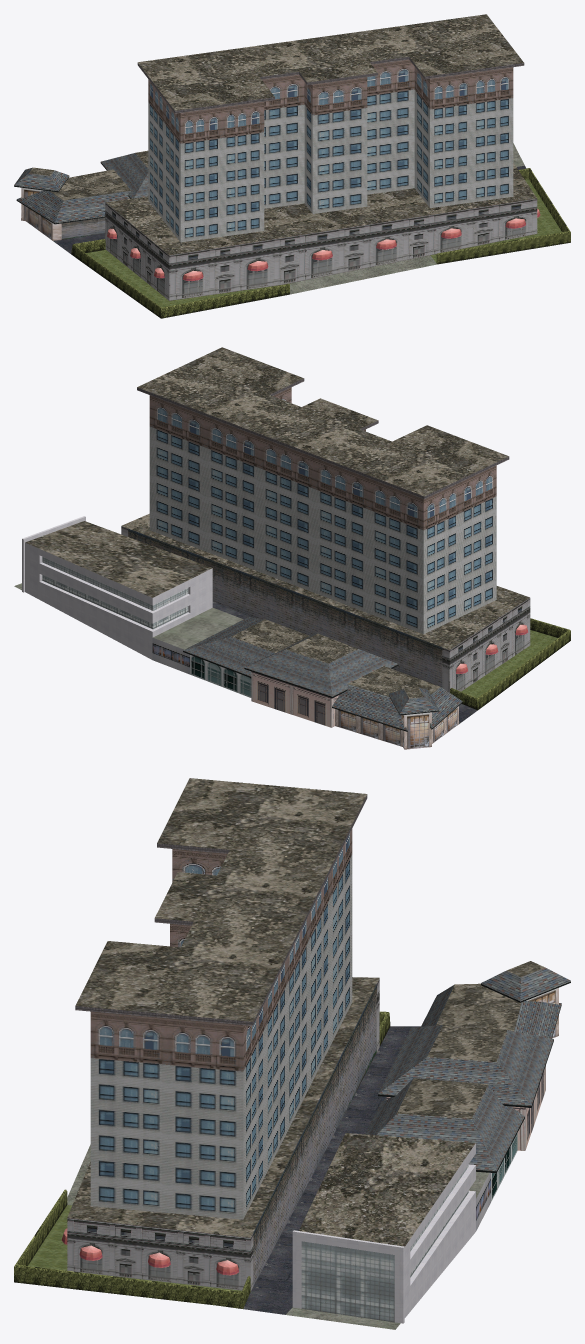
File: rodeo03_law2.obj
3 renders of one model, top to bottom at view 1: azimuth 30°, elevation 25°; view 2: azimuth 150°, elevation 25°; view 3: azimuth 270°, elevation 25°, orthographic. The views are drawn at different scales.
Parts seen in each view (by area): view 1: rodeo03_LAw2; view 2: rodeo03_LAw2; view 3: rodeo03_LAw2.
Boxes of the visible parts, box(x1,y1,x2,y2) form: rodeo03_LAw2: box(14, 14, 570, 318); rodeo03_LAw2: box(14, 347, 570, 749); rodeo03_LAw2: box(14, 778, 570, 1329).
Bounding box in the file's own units: 99.69 × 38.89 × 71.27.
